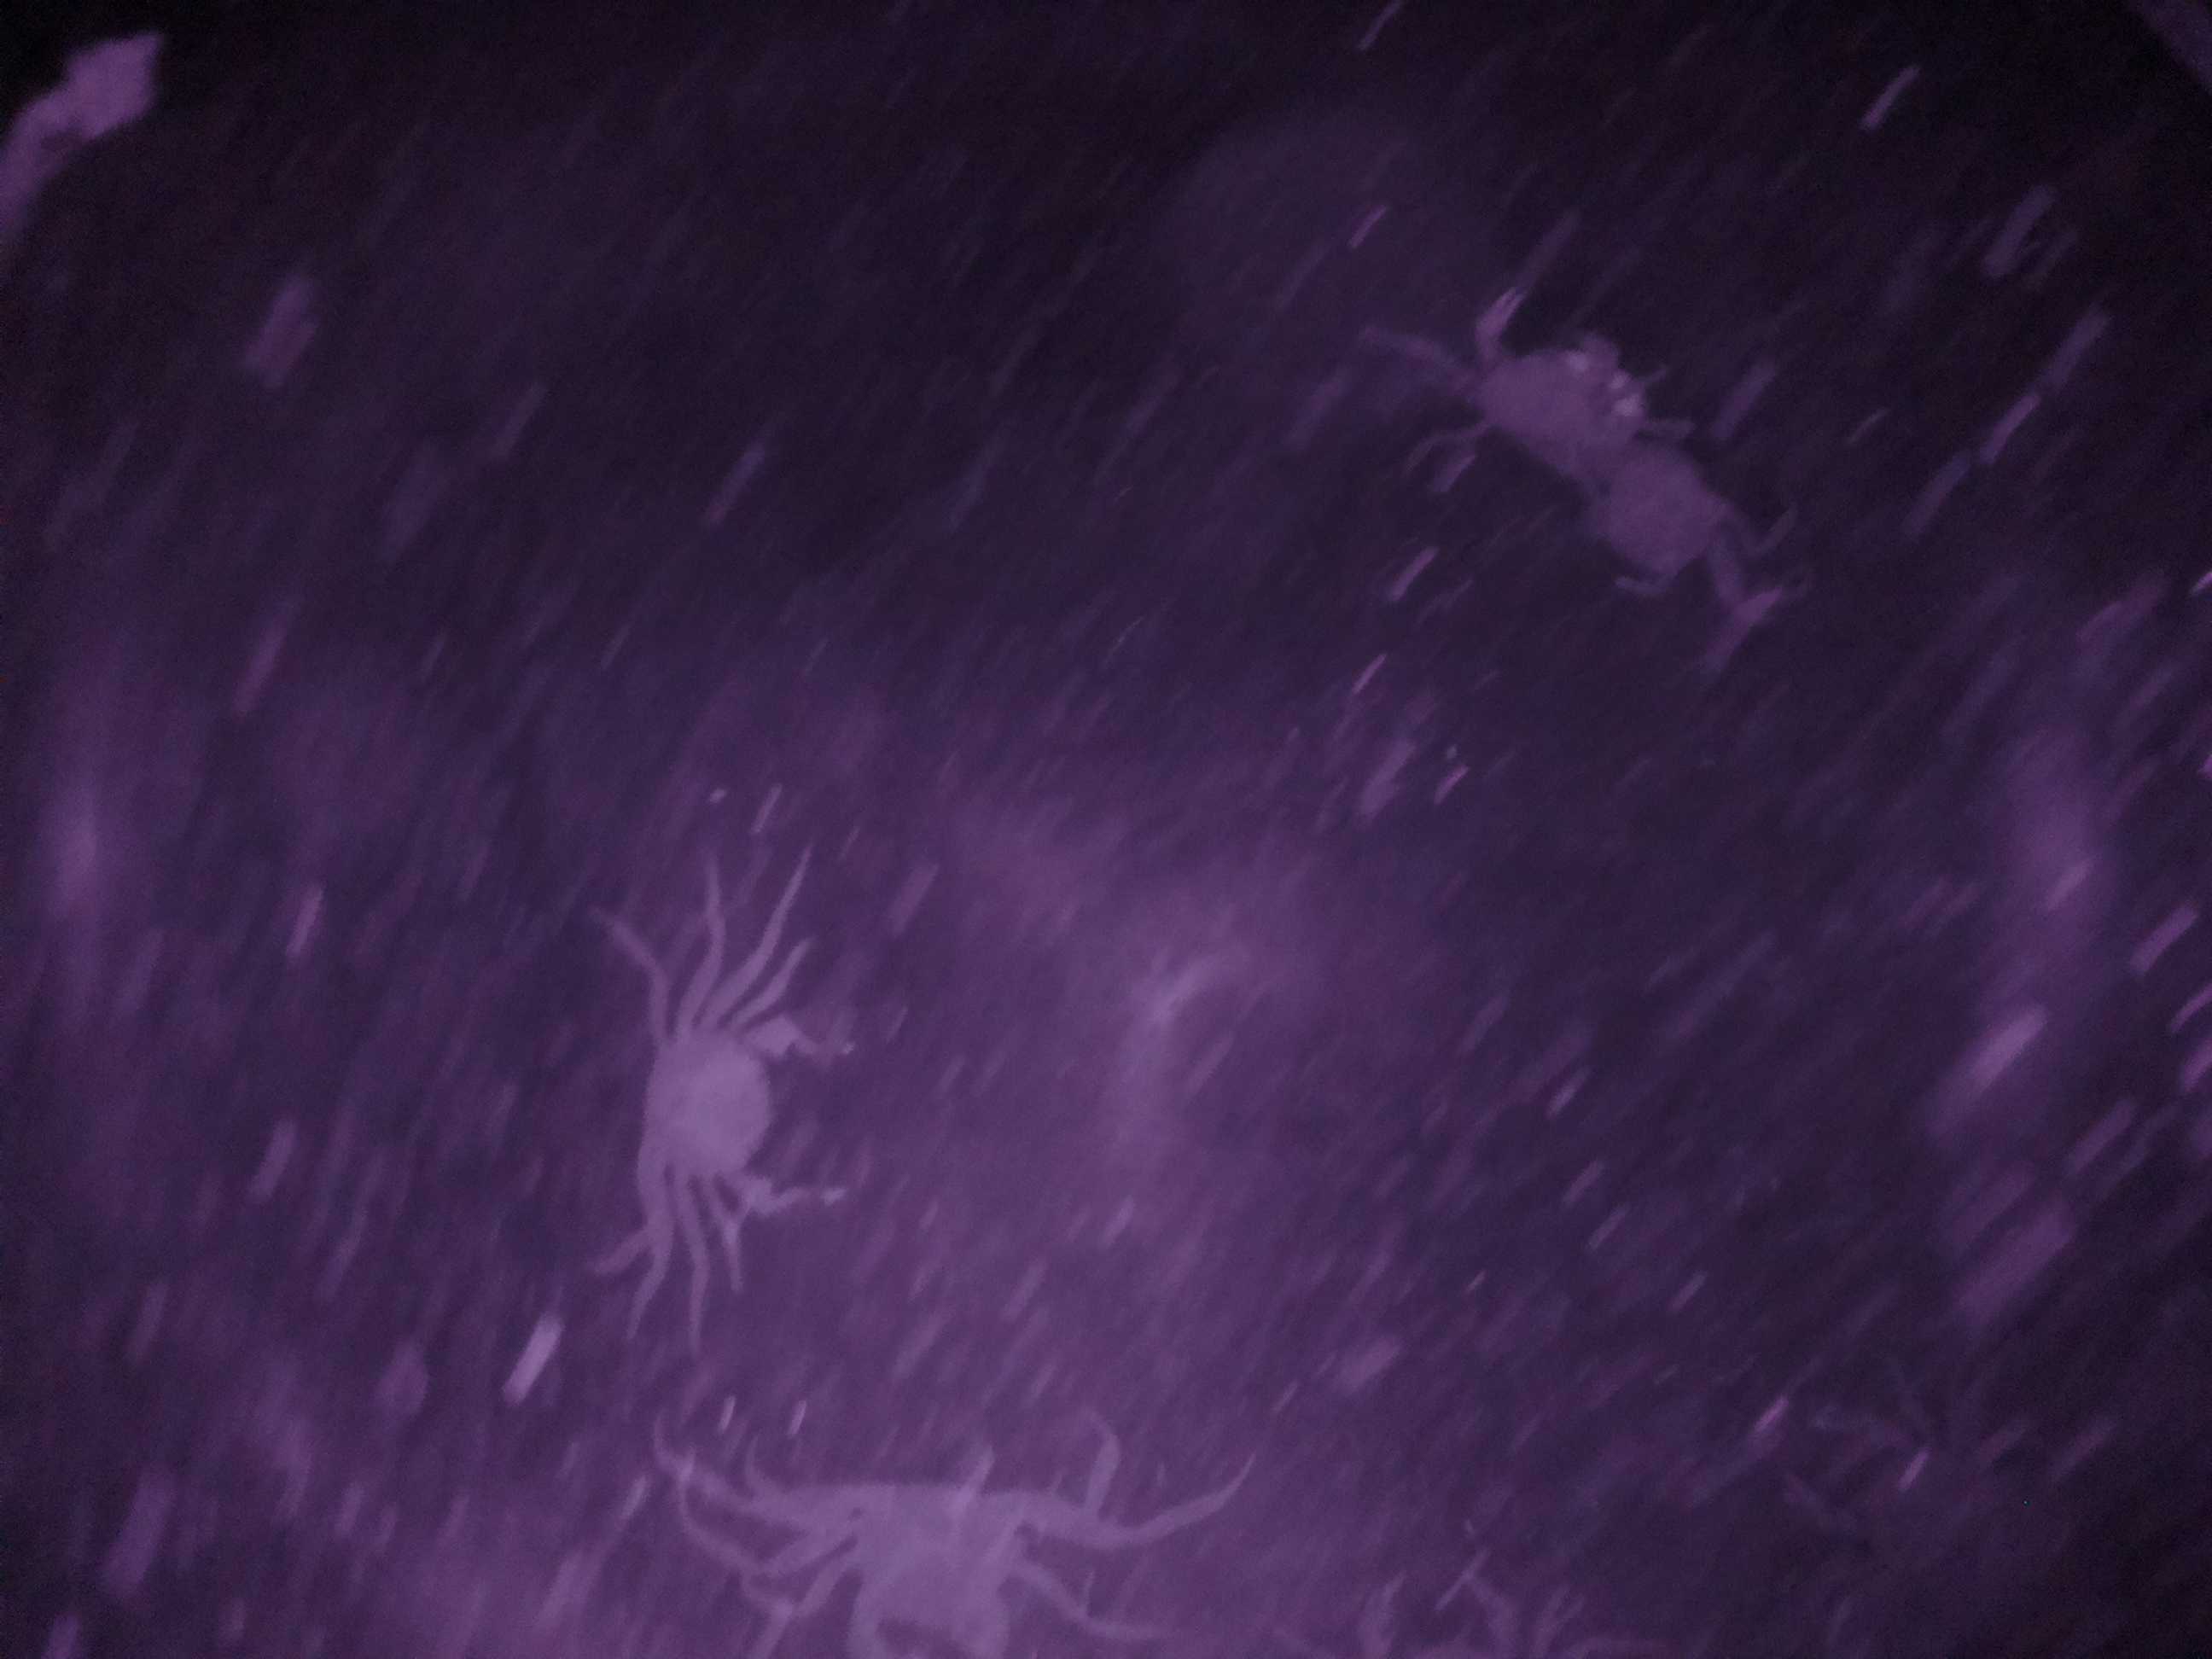Crab: (613, 967, 902, 1255)
